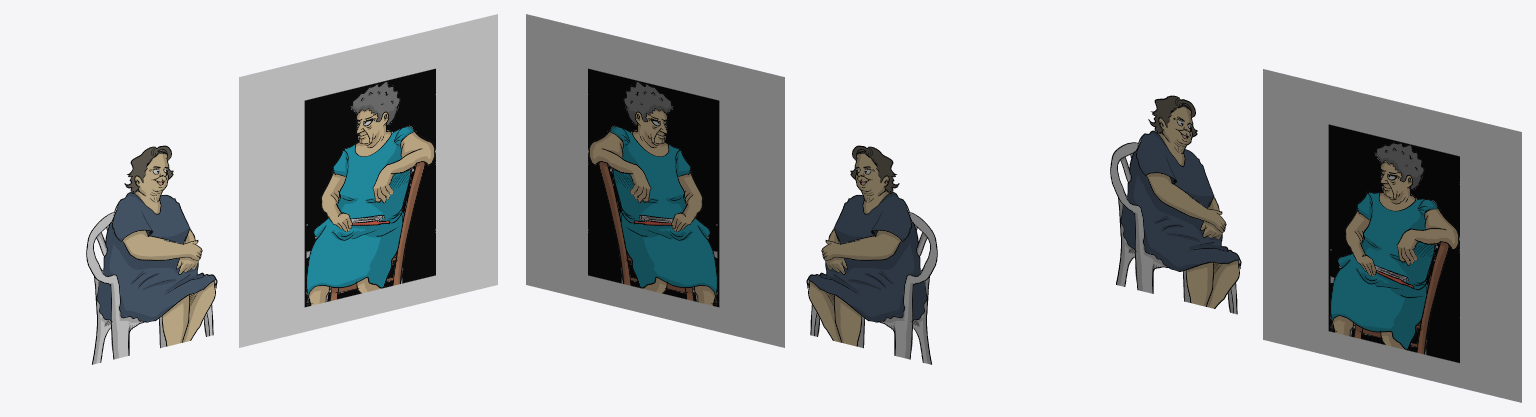
File: Señoras.fbx
The picture shows the model from 3 angles, left to right: view 1: azimuth 30°, elevation 25°; view 2: azimuth 150°, elevation 25°; view 3: azimuth 330°, elevation 25°; orthographic projection.
Visible parts, largest first — view 1: Plane008, Plane007; view 2: Plane008, Plane007; view 3: Plane008, Plane007.
Part boxes in pixels (<box>): Plane008: <box>239,14,497,347</box>; Plane007: <box>86,145,217,364</box>; Plane008: <box>526,14,784,347</box>; Plane007: <box>806,145,937,364</box>; Plane008: <box>1263,69,1521,402</box>; Plane007: <box>1110,95,1241,314</box>.
Bounding box in the file's own units: 2.24 × 1.2 × 5.25e-08.
